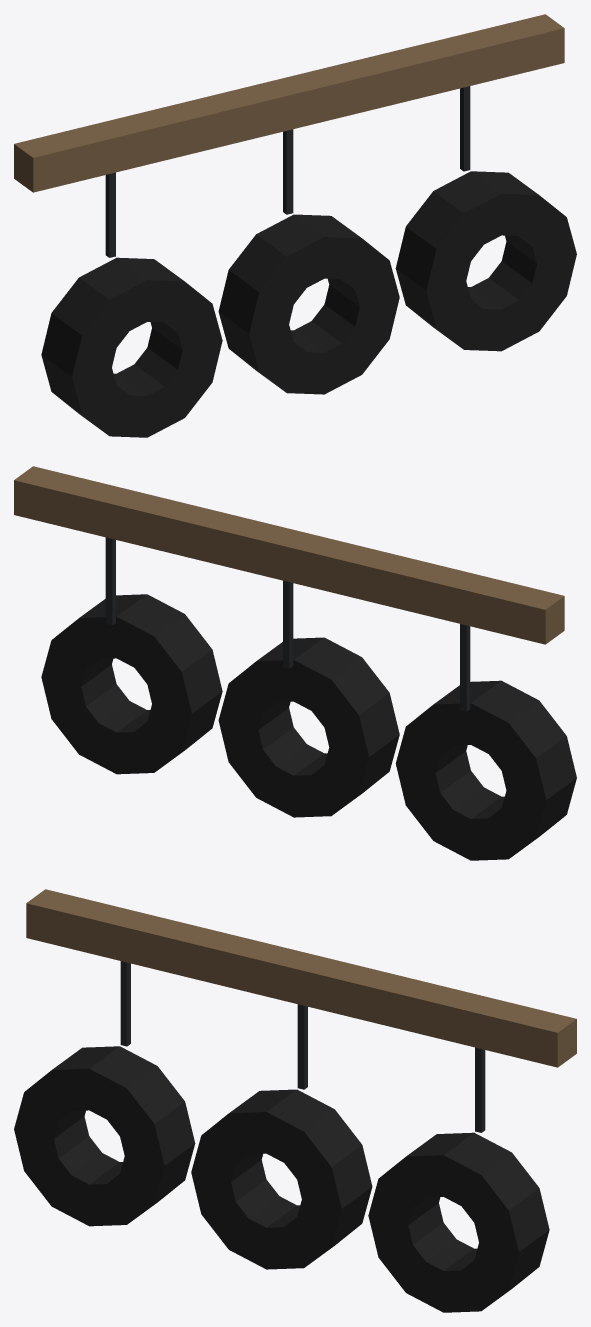
The model's file is hb_fenders.glb.
The picture shows the model from 3 angles, top to bottom: view 1: azimuth 30°, elevation 25°; view 2: azimuth 150°, elevation 25°; view 3: azimuth 330°, elevation 25°; orthographic projection.
Visible parts, largest first — view 1: hb_fenders; view 2: hb_fenders; view 3: hb_fenders.
Part boxes in pixels (box(x1,y1,x2,y2)): hb_fenders: box(14, 14, 576, 437); hb_fenders: box(14, 466, 576, 860); hb_fenders: box(14, 889, 576, 1312).
Size of the model in its own units: 2.4 by 1.22 by 0.35.
